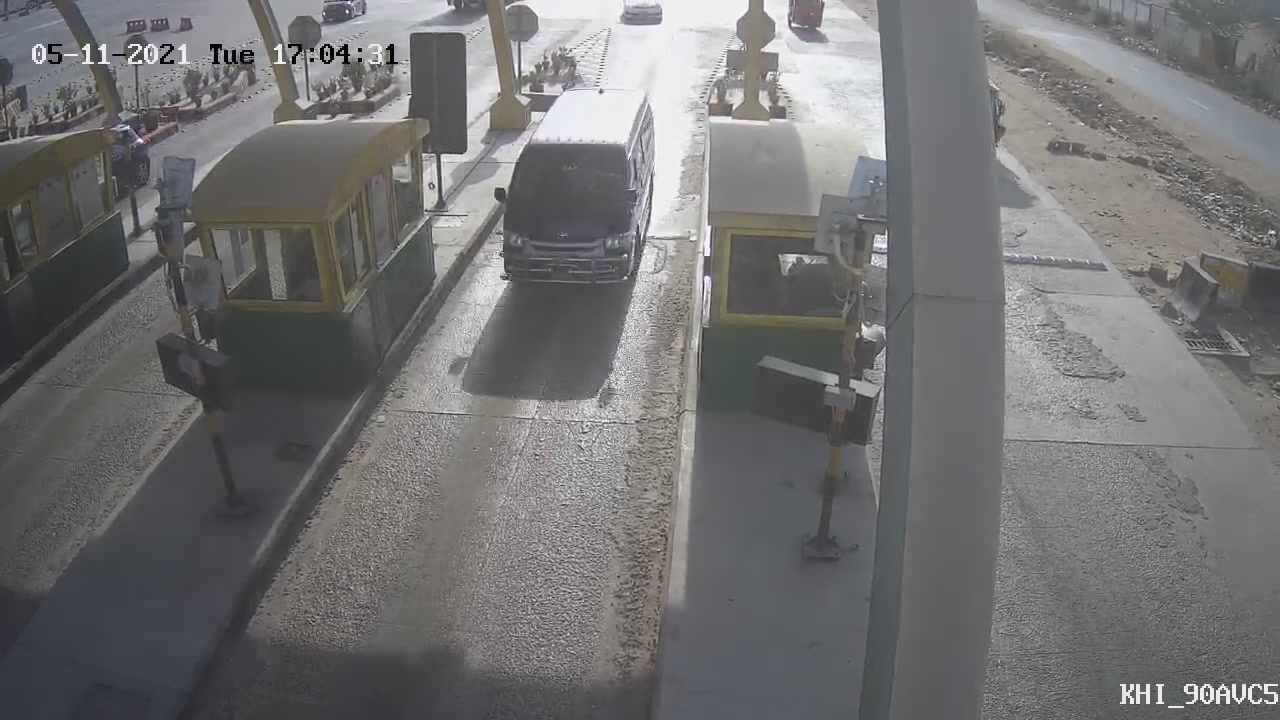F2: (463, 66, 683, 316)
